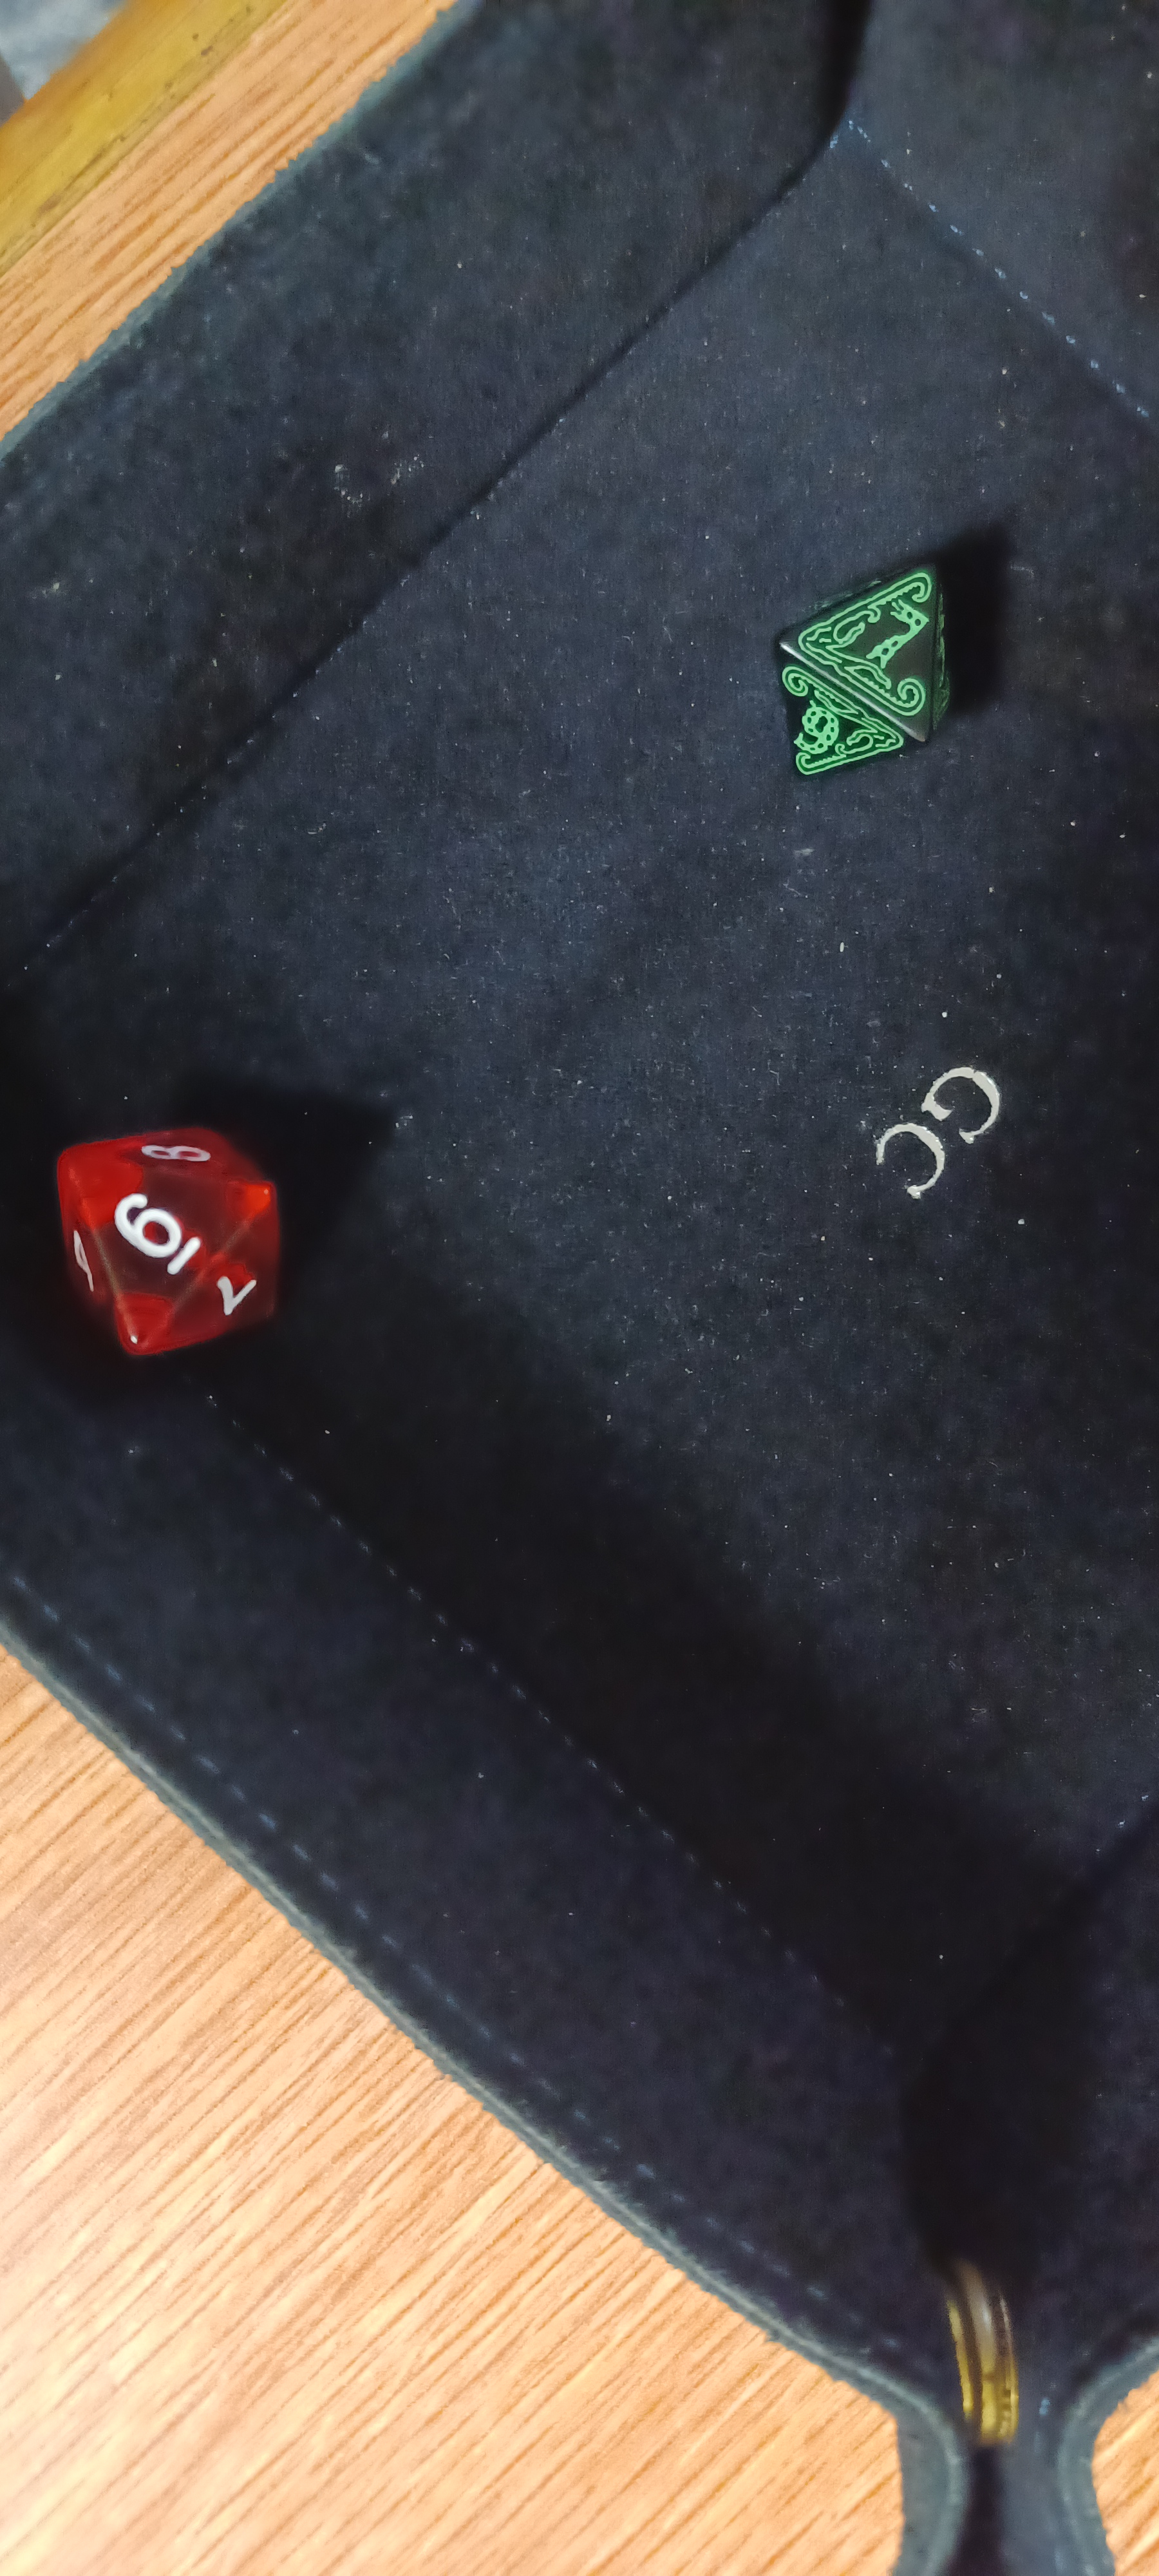seven: (696, 501, 1019, 816)
six: (23, 1086, 340, 1388)
